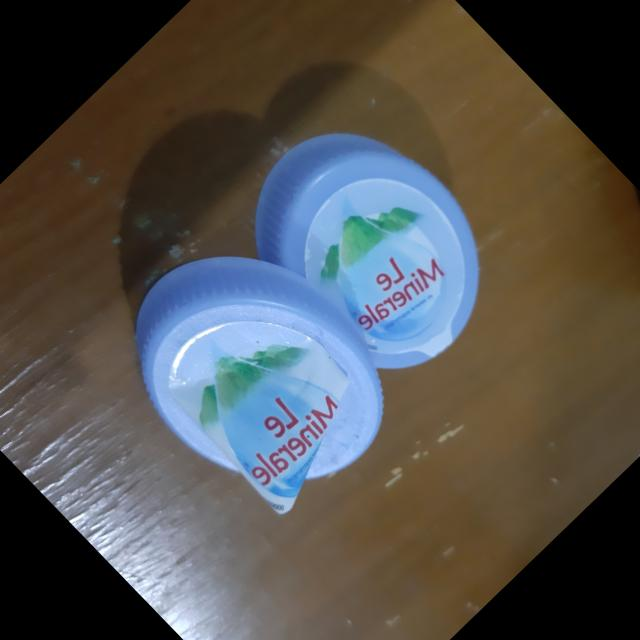TutupGalon: (41, 35, 592, 584)
